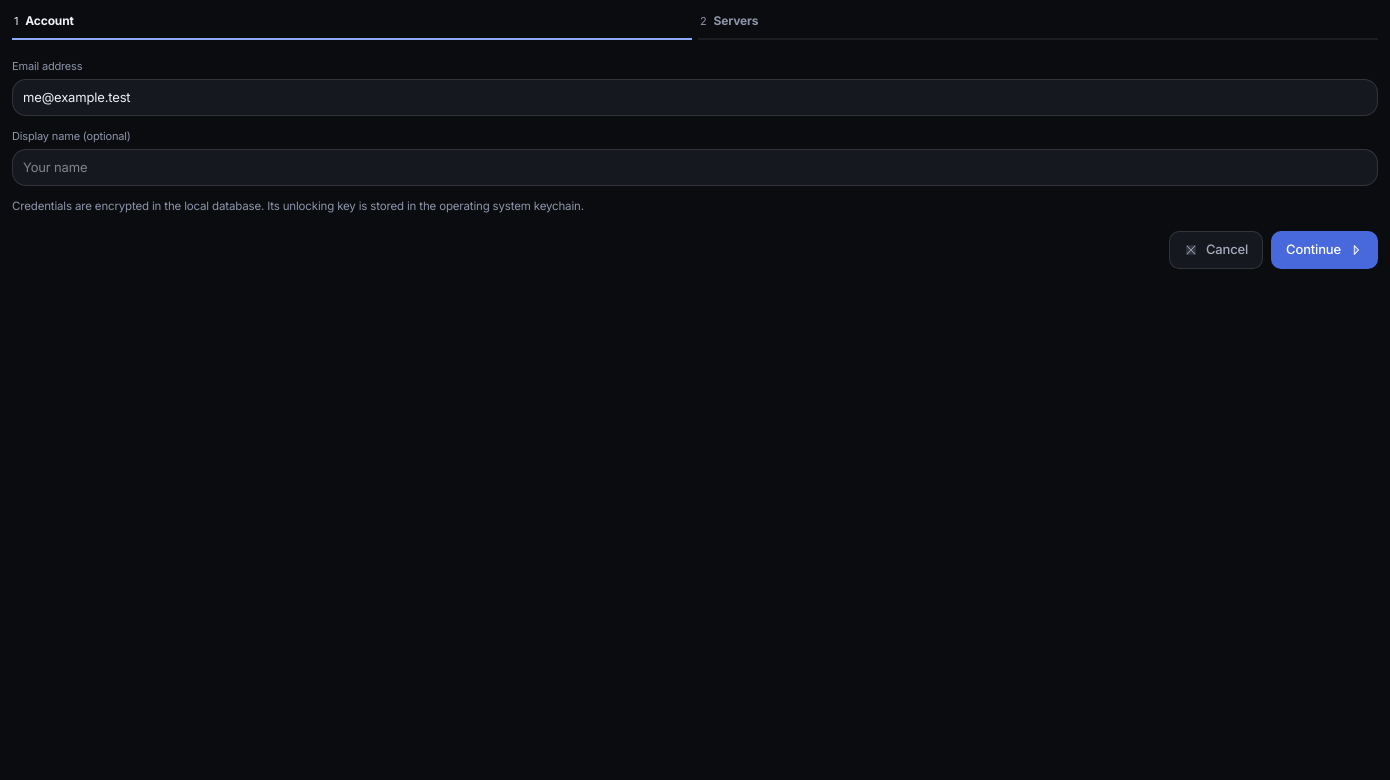
it: AccountForm › preserves explicit separate SMTP credentials when usernames match
Click the button "Continue". click: (1325, 250)
box: 1271,231 -> 1378,269
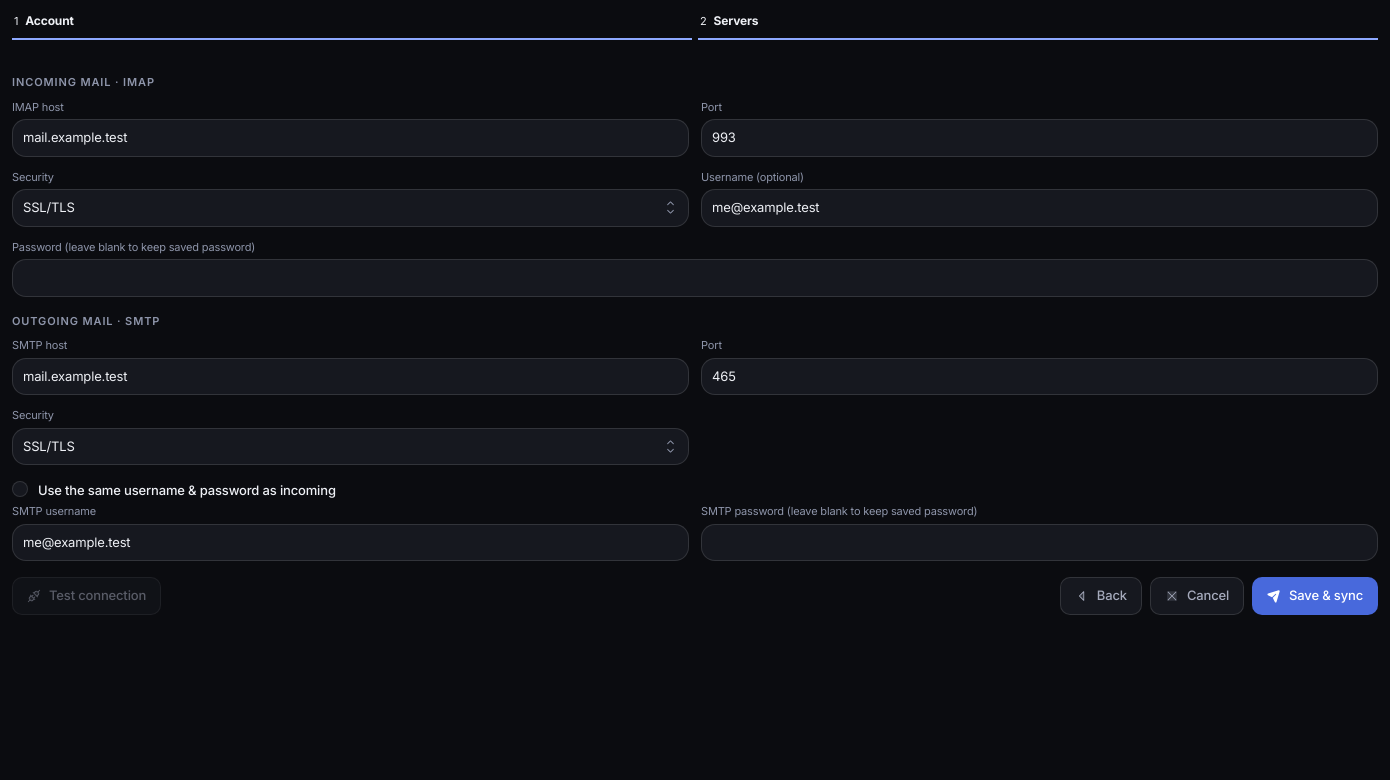
Expected: the button "Save & sync" is enabled, 1252,577 -> 1378,614
Now the checkbox labelled "Use the same username & password as incoming" is not checked, box 12,477 -> 336,501
Now the field named "SMTP username" holds "me@example.test", box 12,524 -> 689,561
